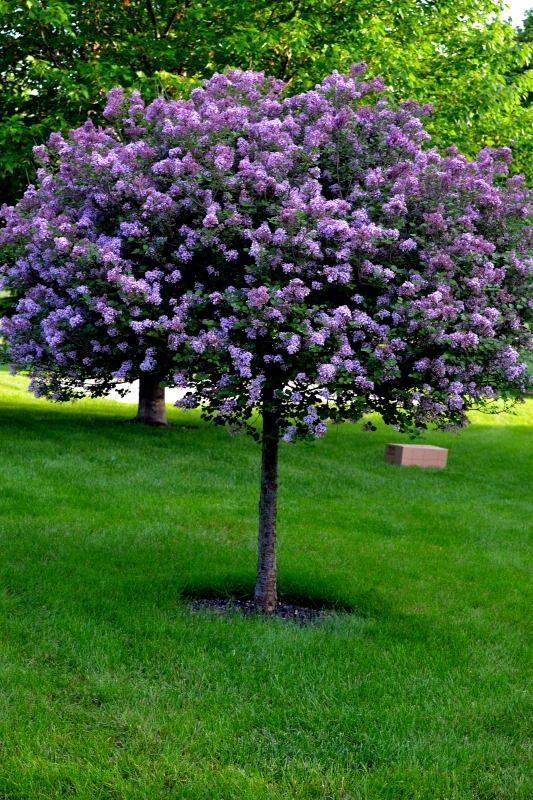tree: (3, 73, 522, 609)
